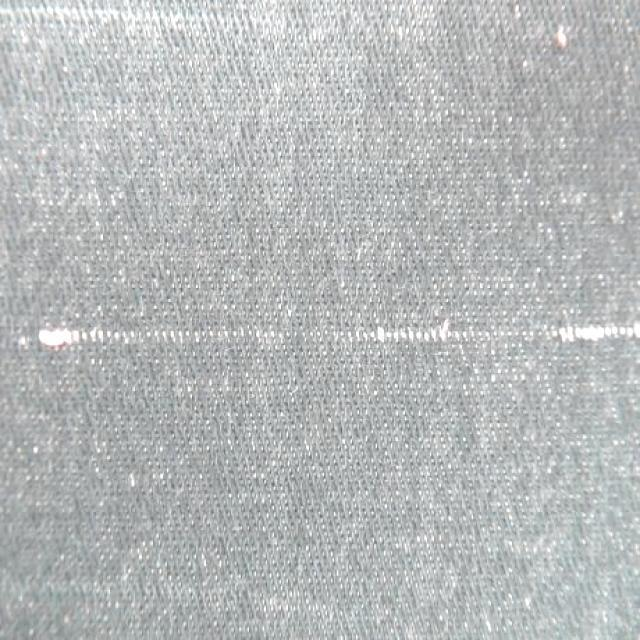stains: (22, 229, 640, 428)
